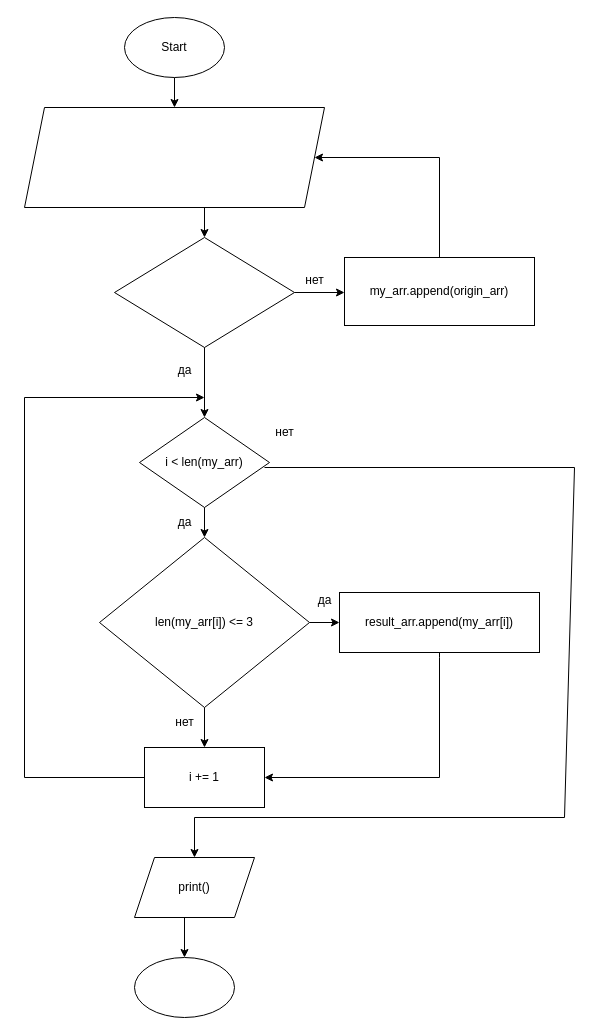
Image size: 600x1035. Some labels were removed from this diagram. The box of each missing label's shape, as (x1, y1, x2, y2) in pixels:
End: (134, 956, 234, 1018)
origin_arr == "": (114, 236, 294, 348)
origin_arr my_arr result_arr i = 0: (24, 106, 324, 208)
